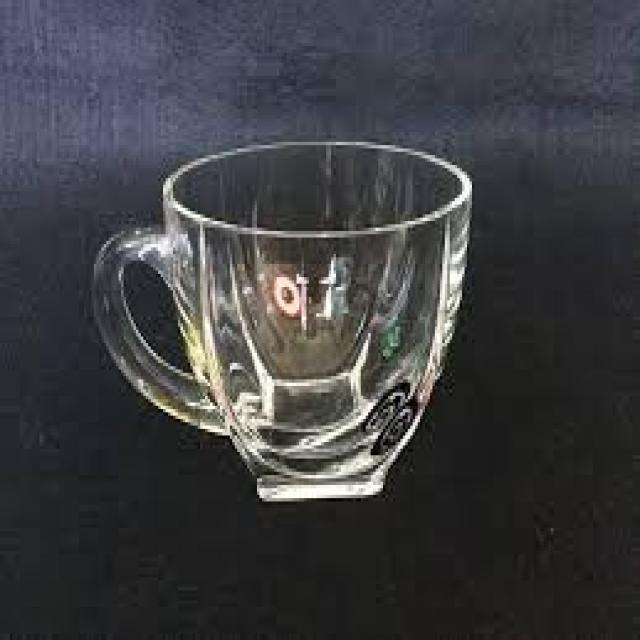glass: (89, 139, 472, 498)
